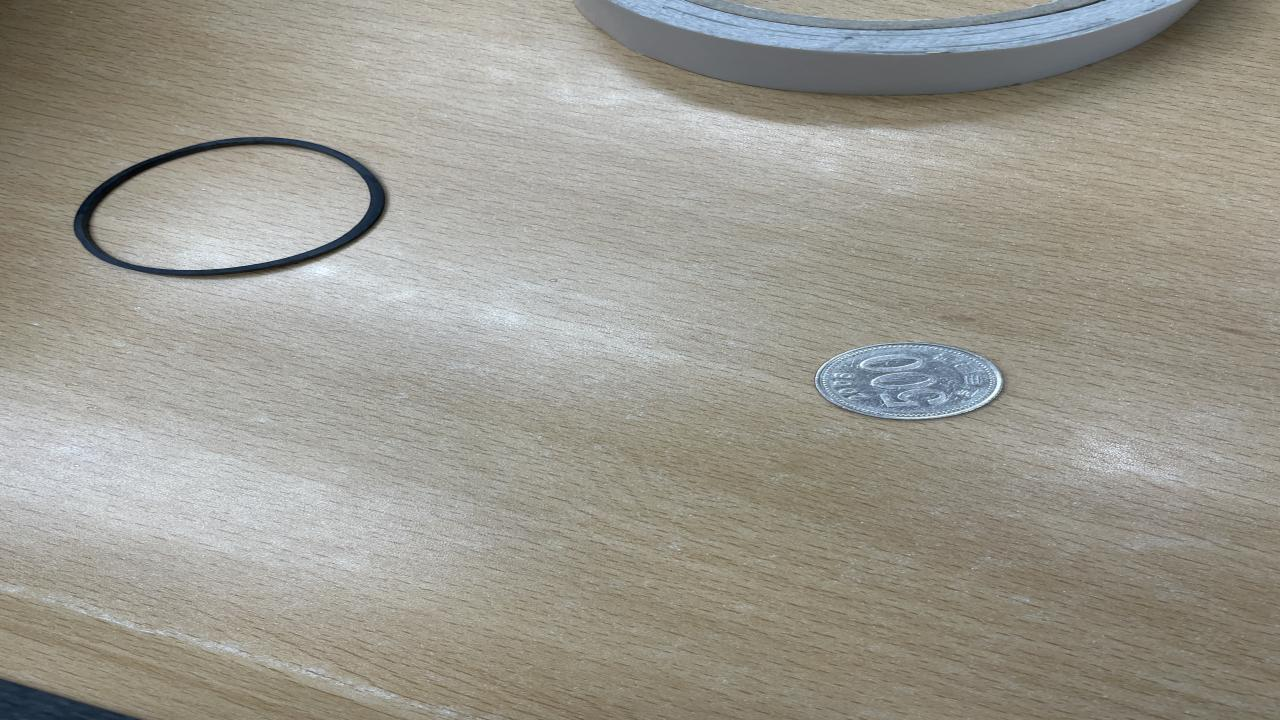coin: (816, 343, 1004, 420)
